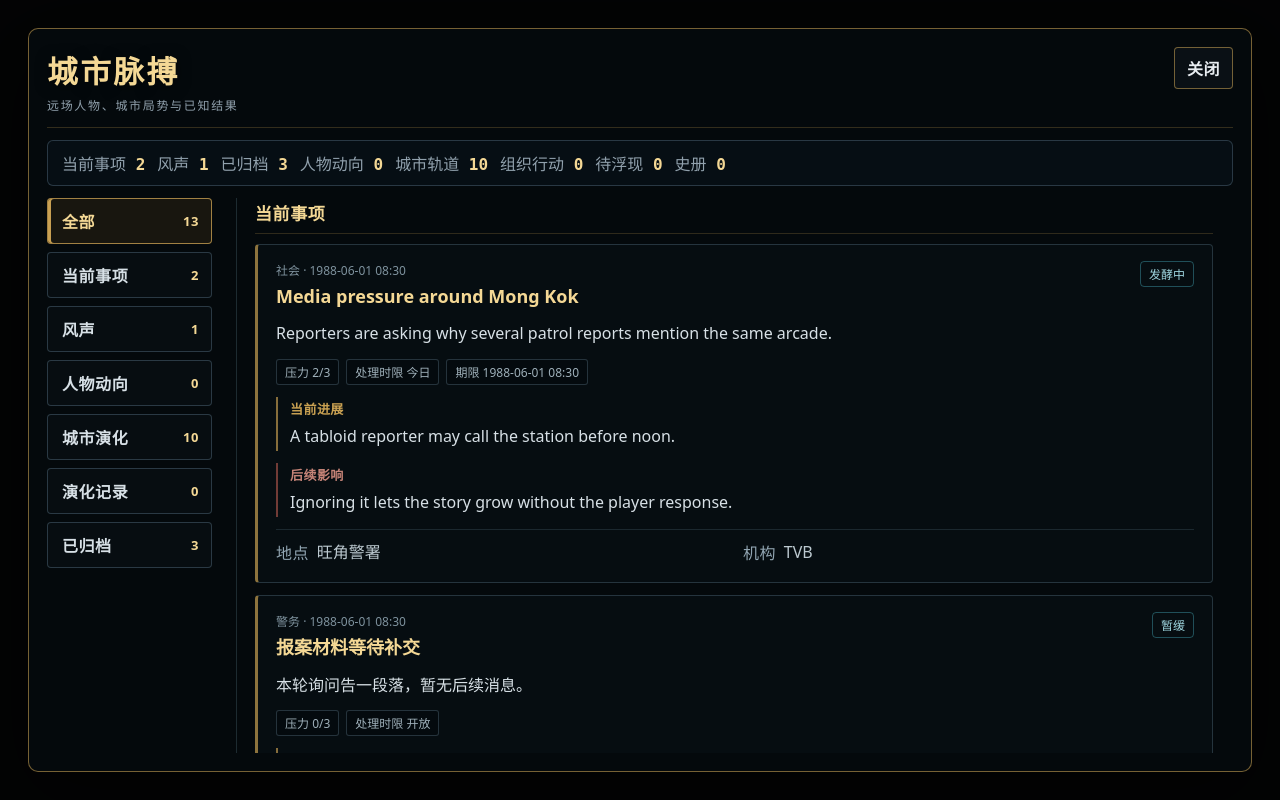
Test case: DynamicMattersPanelModal › treats dormant matters with terminal outcomes as archived entries
Expected: the dialog shows "报案材料等待补交", x1=276 y1=635 x2=420 y2=659
Expected: the dialog shows "暂缓", x1=1161 y1=617 x2=1185 y2=634
Click the button "已归档 3".
click(130, 545)  # box x1=47 y1=522 x2=212 y2=568
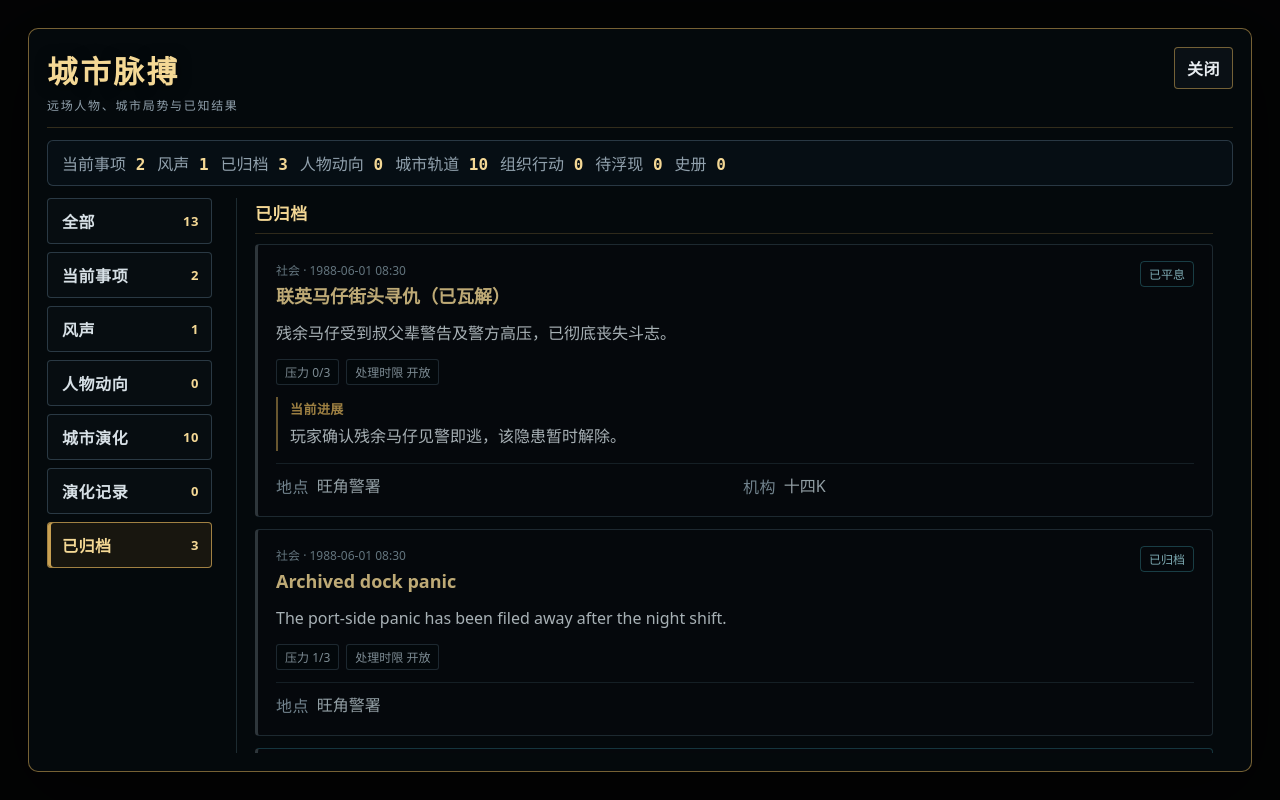
Expected: the dialog shows "联英马仔街头寻仇（已瓦解）", x1=276 y1=284 x2=510 y2=308
Expected: the dialog shows "已平息", x1=1149 y1=266 x2=1185 y2=283
Expected: the dialog no longer shows "报案材料等待补交"
